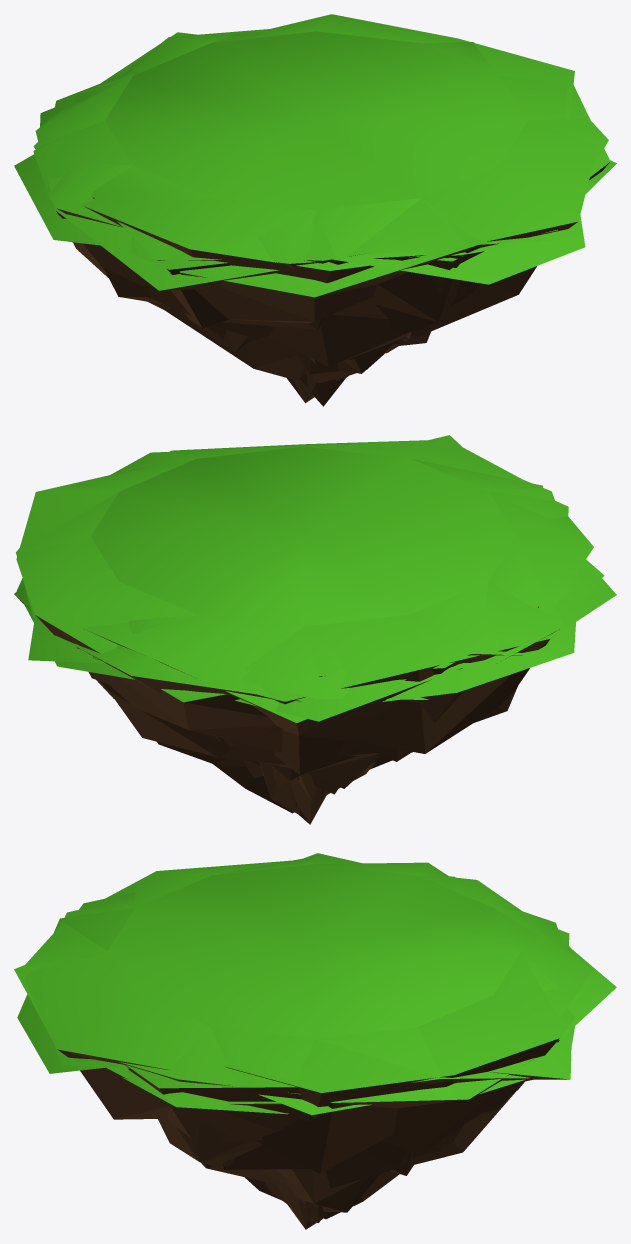
Rendered from floatingislands.glb.
The picture shows the model from 3 angles, top to bottom: view 1: azimuth 30°, elevation 25°; view 2: azimuth 150°, elevation 25°; view 3: azimuth 270°, elevation 25°; orthographic projection. The views are drawn at different scales.
Visible parts, largest first — view 1: FloatingIsland.001, FloatingIsland.005, FloatingIsland.007, FloatingIsland.003, FloatingIsland.002, FloatingIsland.006, FloatingIsland.008, FloatingIsland.004; view 2: FloatingIsland.001, FloatingIsland.003, FloatingIsland.006, FloatingIsland.002, FloatingIsland.005, FloatingIsland.007, FloatingIsland.004, FloatingIsland.008; view 3: FloatingIsland.001, FloatingIsland.003, FloatingIsland.005, FloatingIsland.006, FloatingIsland.008, FloatingIsland.004, FloatingIsland.002, FloatingIsland.007.
Boxes of the visible parts, box(x1,y1,x2,y2) form: FloatingIsland.001: box(14, 31, 536, 406); FloatingIsland.005: box(53, 76, 597, 376); FloatingIsland.007: box(82, 32, 616, 373); FloatingIsland.003: box(41, 14, 585, 379); FloatingIsland.002: box(35, 33, 577, 380); FloatingIsland.006: box(33, 29, 610, 402); FloatingIsland.008: box(33, 72, 552, 364); FloatingIsland.004: box(40, 42, 608, 383); FloatingIsland.001: box(17, 446, 575, 814); FloatingIsland.003: box(16, 459, 562, 788); FloatingIsland.006: box(69, 459, 604, 824); FloatingIsland.002: box(92, 578, 616, 794); FloatingIsland.005: box(28, 440, 596, 813); FloatingIsland.007: box(75, 492, 593, 778); FloatingIsland.004: box(16, 451, 568, 780); FloatingIsland.008: box(14, 435, 461, 764); FloatingIsland.001: box(56, 864, 574, 1229); FloatingIsland.003: box(17, 853, 575, 1206); FloatingIsland.005: box(24, 858, 571, 1219); FloatingIsland.006: box(125, 862, 593, 1222); FloatingIsland.008: box(14, 875, 554, 1212); FloatingIsland.004: box(79, 892, 569, 1120); FloatingIsland.002: box(51, 875, 593, 1185); FloatingIsland.007: box(105, 860, 616, 1175).
Bounding box in the file's own units: 4.32 × 2.22 × 4.38.
